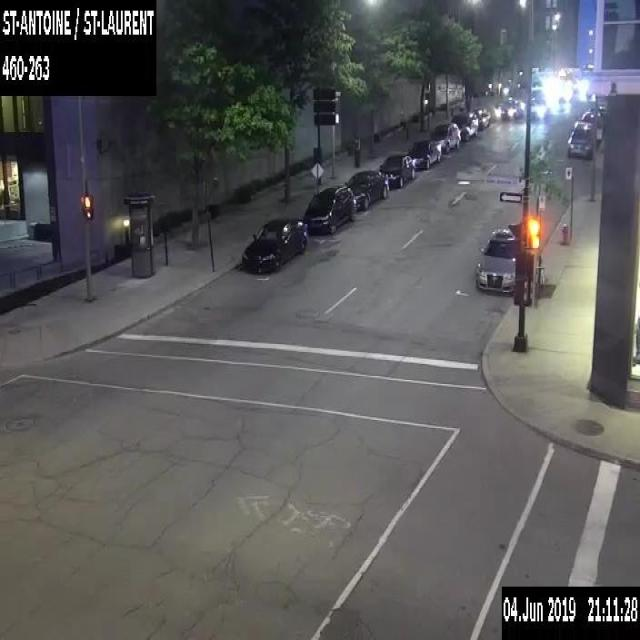vehicle: (239, 217, 307, 273), (475, 224, 519, 292), (302, 184, 356, 235), (344, 169, 388, 209), (377, 153, 415, 188), (566, 119, 594, 159), (405, 138, 441, 169), (429, 121, 460, 152), (450, 110, 478, 140), (580, 110, 603, 138), (467, 104, 490, 130), (523, 97, 544, 117), (498, 99, 520, 118)
